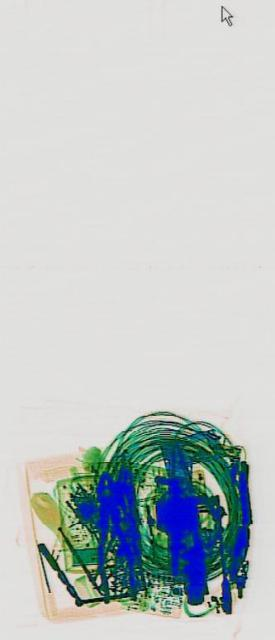Pliers: (86, 460, 135, 614)
